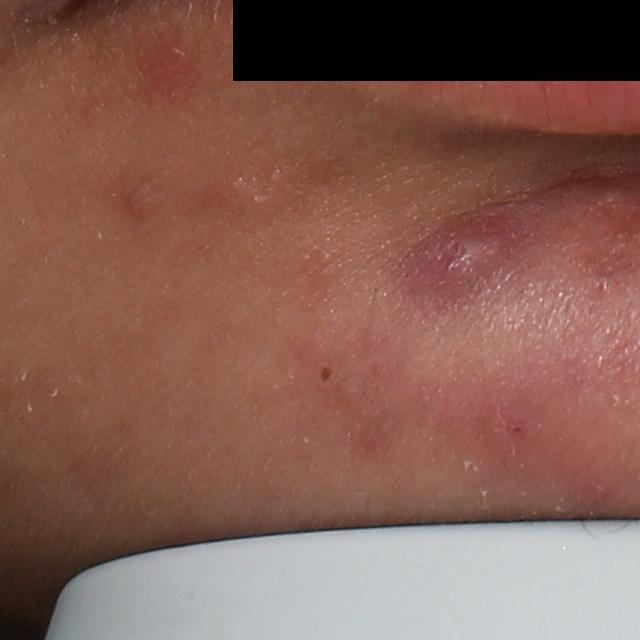nevus: (320, 364, 335, 383)
papule: (401, 209, 531, 302), (137, 30, 206, 81), (123, 179, 165, 222)
